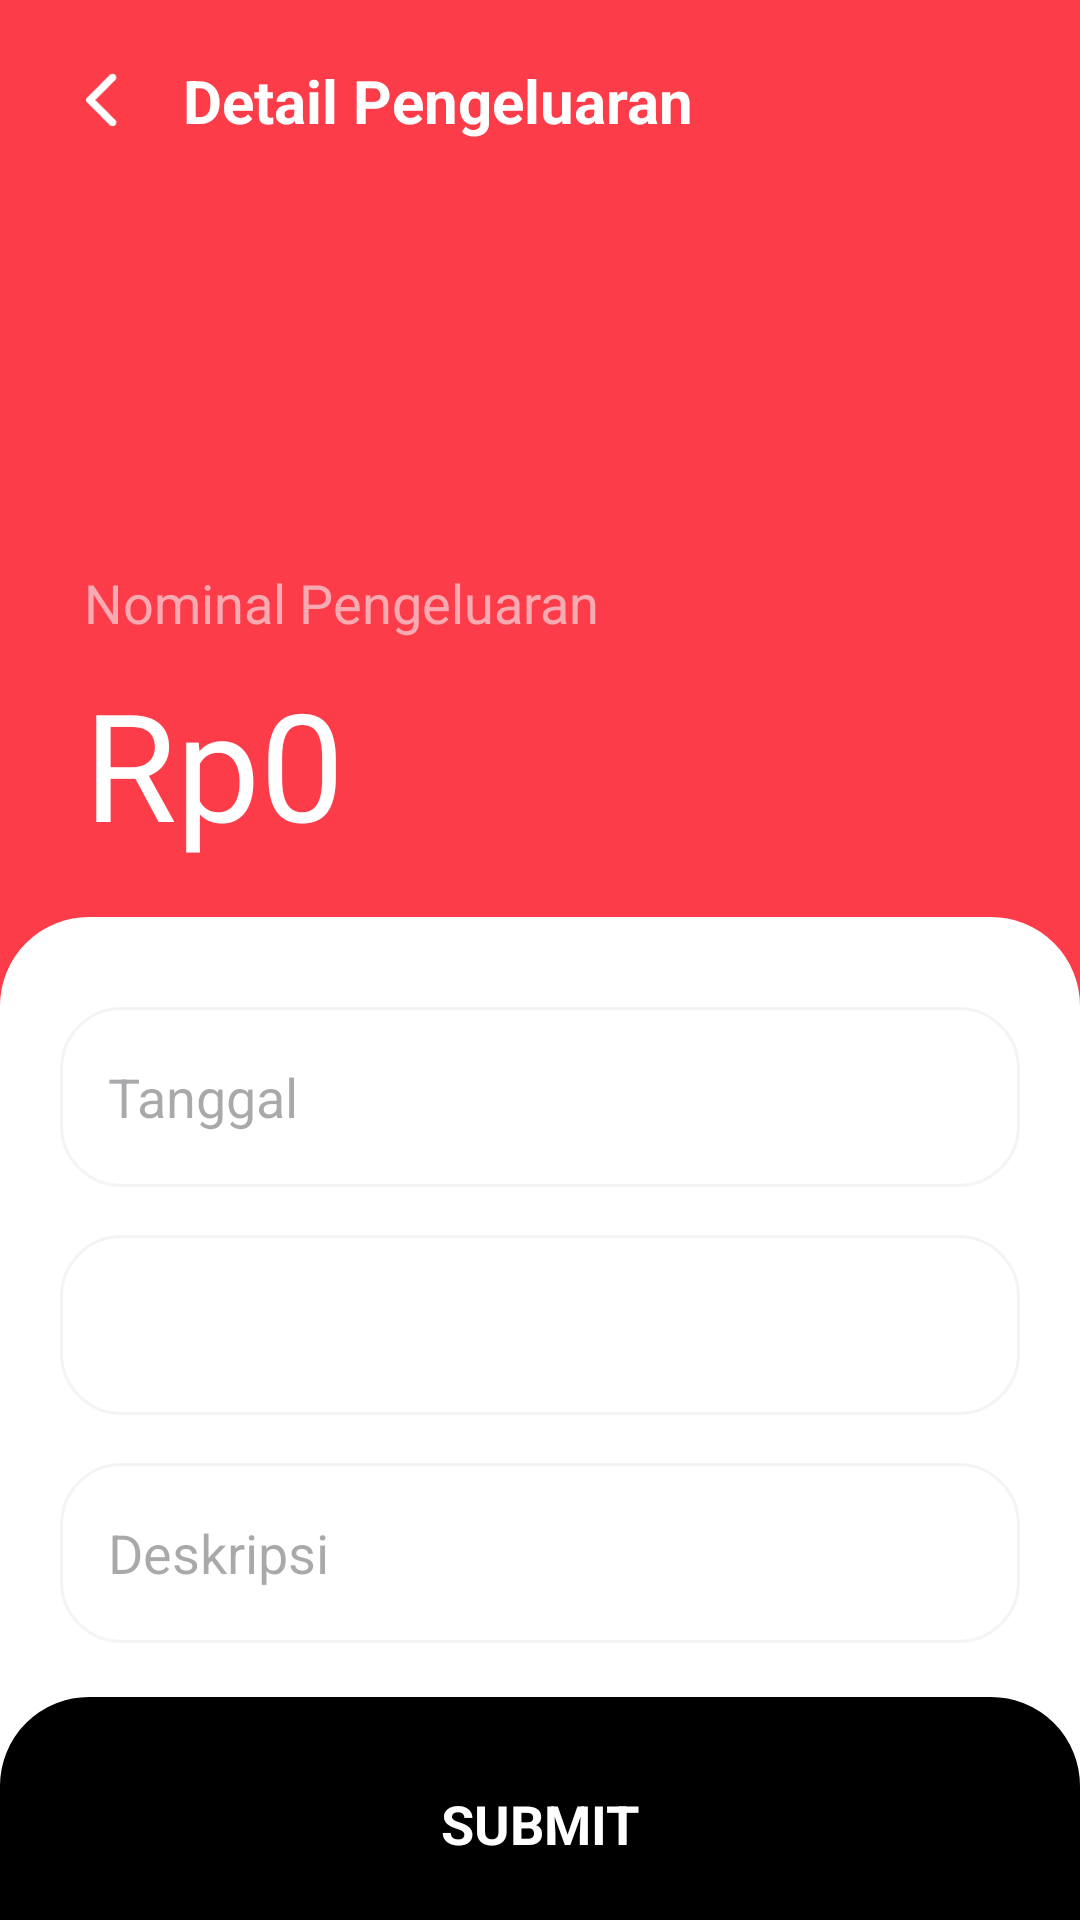

Named icons in this screenshot (1080px×1920px) and their centers, [x,y]:
chevron left: [101,100]
